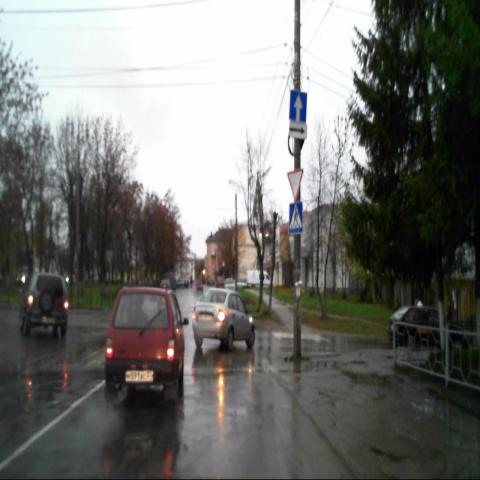5_5: (288, 89, 308, 123)
8_3_1: (289, 122, 307, 140)
